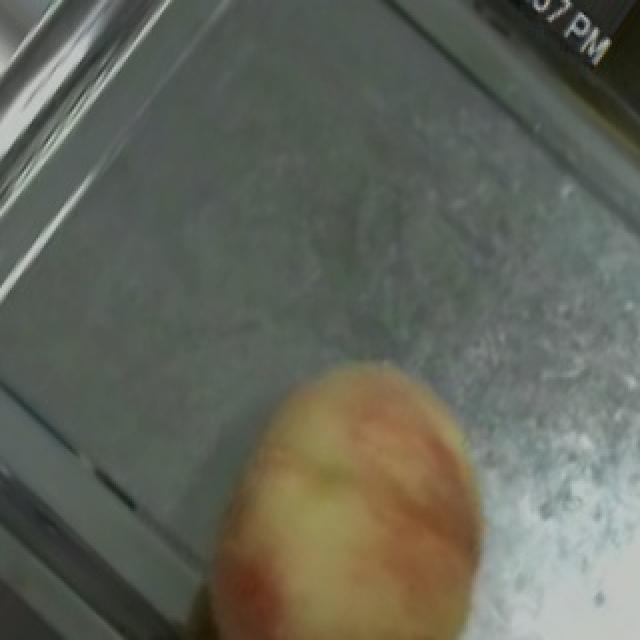Fruit: (168, 315, 516, 640)
